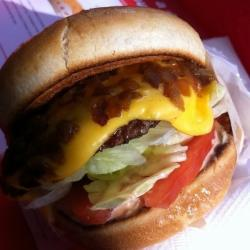burger: (2, 4, 245, 248)
